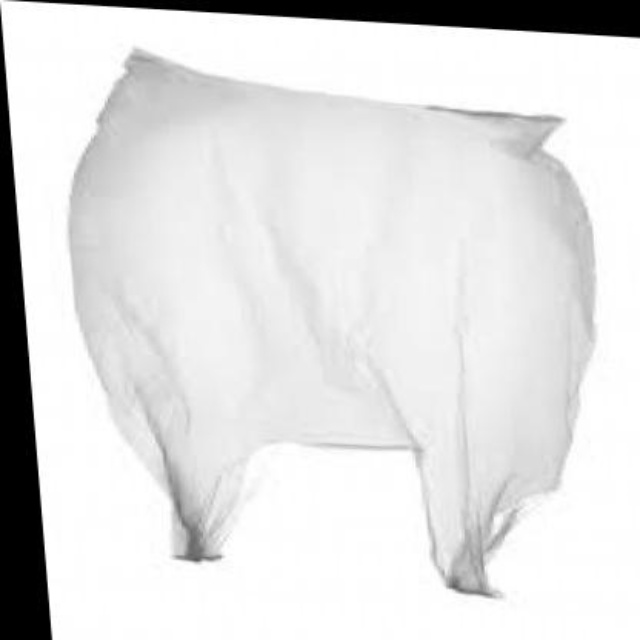trash: (71, 52, 592, 591)
